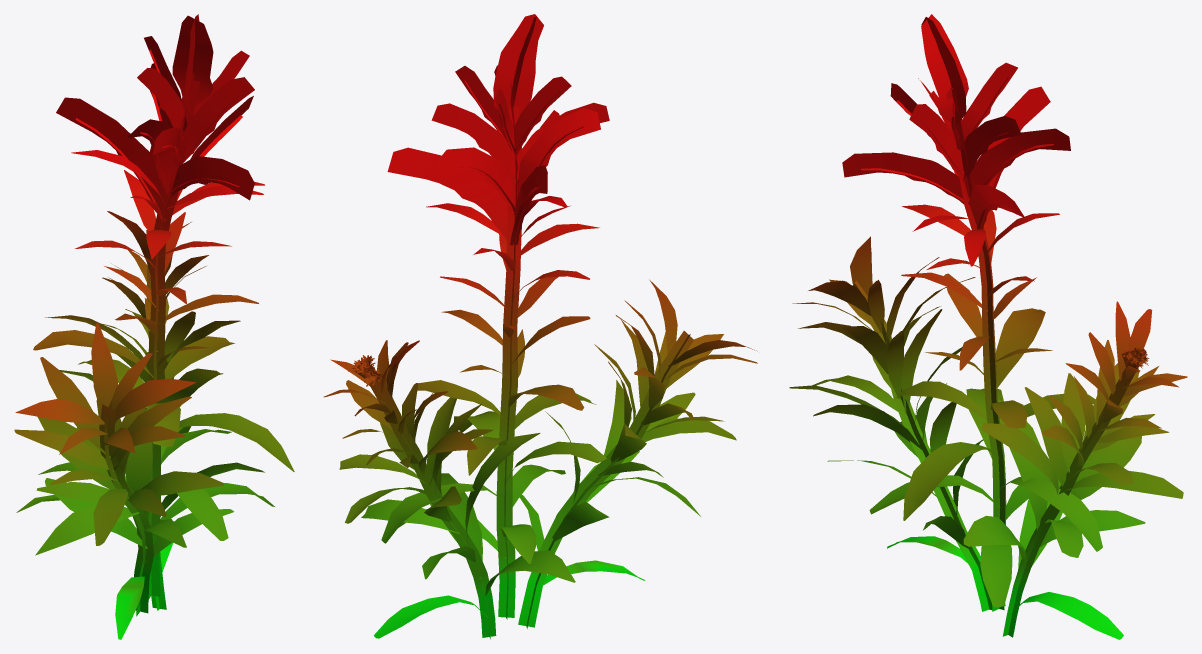
The model's file is Goldenrods_LOD3_Var4.fbx.
The picture shows the model from 3 angles, left to right: view 1: azimuth 30°, elevation 25°; view 2: azimuth 150°, elevation 25°; view 3: azimuth 270°, elevation 25°; orthographic projection. The views are drawn at different scales.
Parts seen in each view (by area): view 1: _c49c_Var4_LOD3; view 2: _c49c_Var4_LOD3; view 3: _c49c_Var4_LOD3.
Boxes of the visible parts, box(x1,y1,x2,y2) form: _c49c_Var4_LOD3: box(14, 14, 294, 639); _c49c_Var4_LOD3: box(323, 14, 757, 639); _c49c_Var4_LOD3: box(789, 14, 1187, 639).
Bounding box in the file's own units: 50.56 × 93.62 × 54.9.
